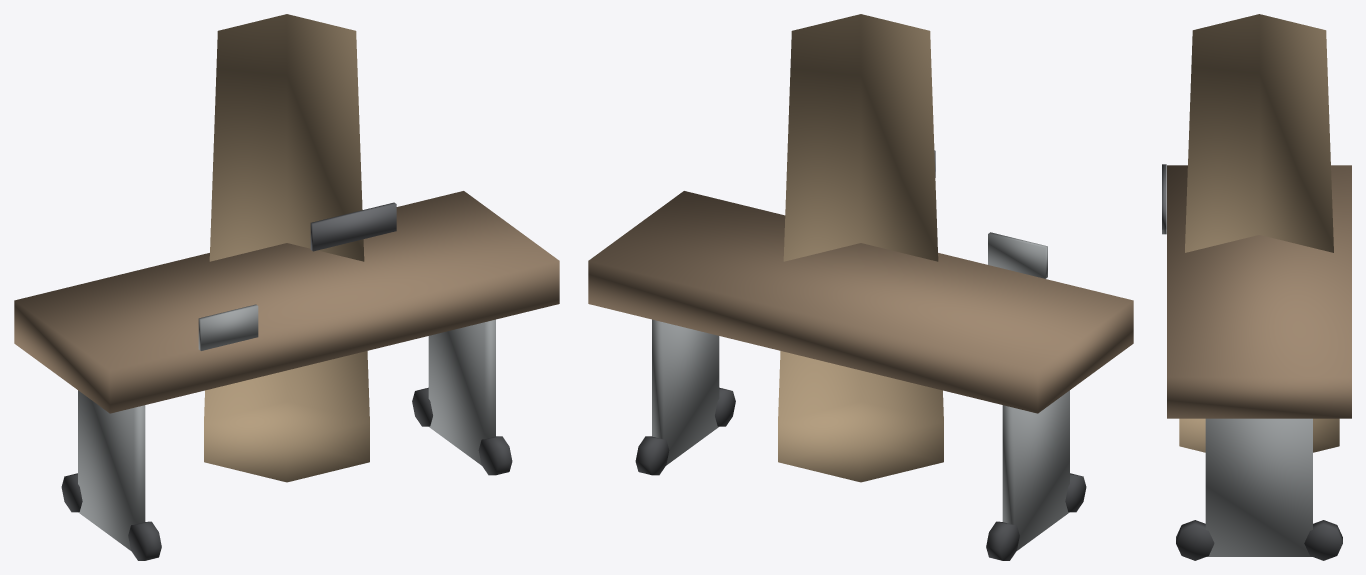
Rendered from casket_bier__weathered.glb.
3 views of the same model, side by side, from view 1: azimuth 30°, elevation 25°; view 2: azimuth 150°, elevation 25°; view 3: azimuth 270°, elevation 25° (orthographic). The views are drawn at different scales.
Visible parts, largest first — view 1: world; view 2: world; view 3: world.
Boxes of the visible parts, bbox=[...] form: world: bbox=[14, 14, 559, 560]; world: bbox=[588, 14, 1133, 560]; world: bbox=[1162, 14, 1351, 560].
Size of the model in its own units: 1.95 by 1.84 by 0.7391.
